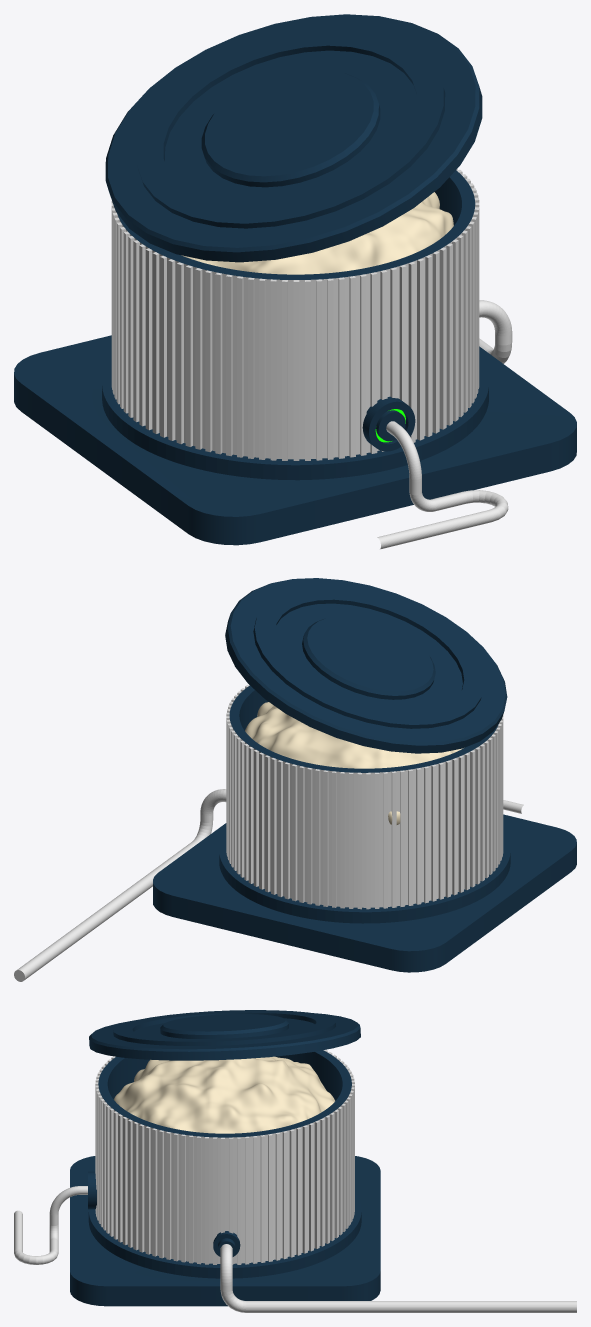
Rendered from BARAPASIR-COMP.glb.
The picture shows the model from 3 angles, top to bottom: view 1: azimuth 30°, elevation 25°; view 2: azimuth 150°, elevation 25°; view 3: azimuth 270°, elevation 25°; orthographic projection. The views are drawn at different scales.
Visible parts, largest first — view 1: Circle.001, Cylinder, Cube, Cube.001, Cylinder.004, Cylinder.001, Cylinder.003; view 2: Cylinder, Circle.001, Cube, Cube.001, Cylinder.003; view 3: Cylinder, Cube, Cube.001, Circle.001, Cylinder.003, Cylinder.004, Cylinder.002.
Boxes of the visible parts, <box> form: Circle.001: <box>105,14,482,262</box>; Cylinder: <box>111,168,479,460</box>; Cube: <box>14,335,576,545</box>; Cube.001: <box>181,192,453,279</box>; Cylinder.004: <box>377,421,508,549</box>; Cylinder.001: <box>362,396,415,451</box>; Cylinder.003: <box>479,300,512,363</box>; Cylinder: <box>226,685,503,909</box>; Circle.001: <box>225,578,507,753</box>; Cube: <box>153,814,576,972</box>; Cube.001: <box>245,702,463,824</box>; Cylinder.003: <box>14,789,226,981</box>; Cylinder: <box>95,1049,354,1264</box>; Cube: <box>70,1156,380,1306</box>; Cube.001: <box>114,1056,334,1137</box>; Circle.001: <box>89,1010,360,1060</box>; Cylinder.003: <box>220,1244,576,1312</box>; Cylinder.004: <box>14,1186,87,1264</box>; Cylinder.002: <box>213,1231,240,1256</box>.
Size of what is drawn, in the model's own units: 2.56 by 2.09 by 4.35.
